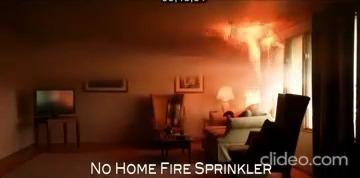fire: (211, 19, 260, 78), (260, 21, 281, 52)
